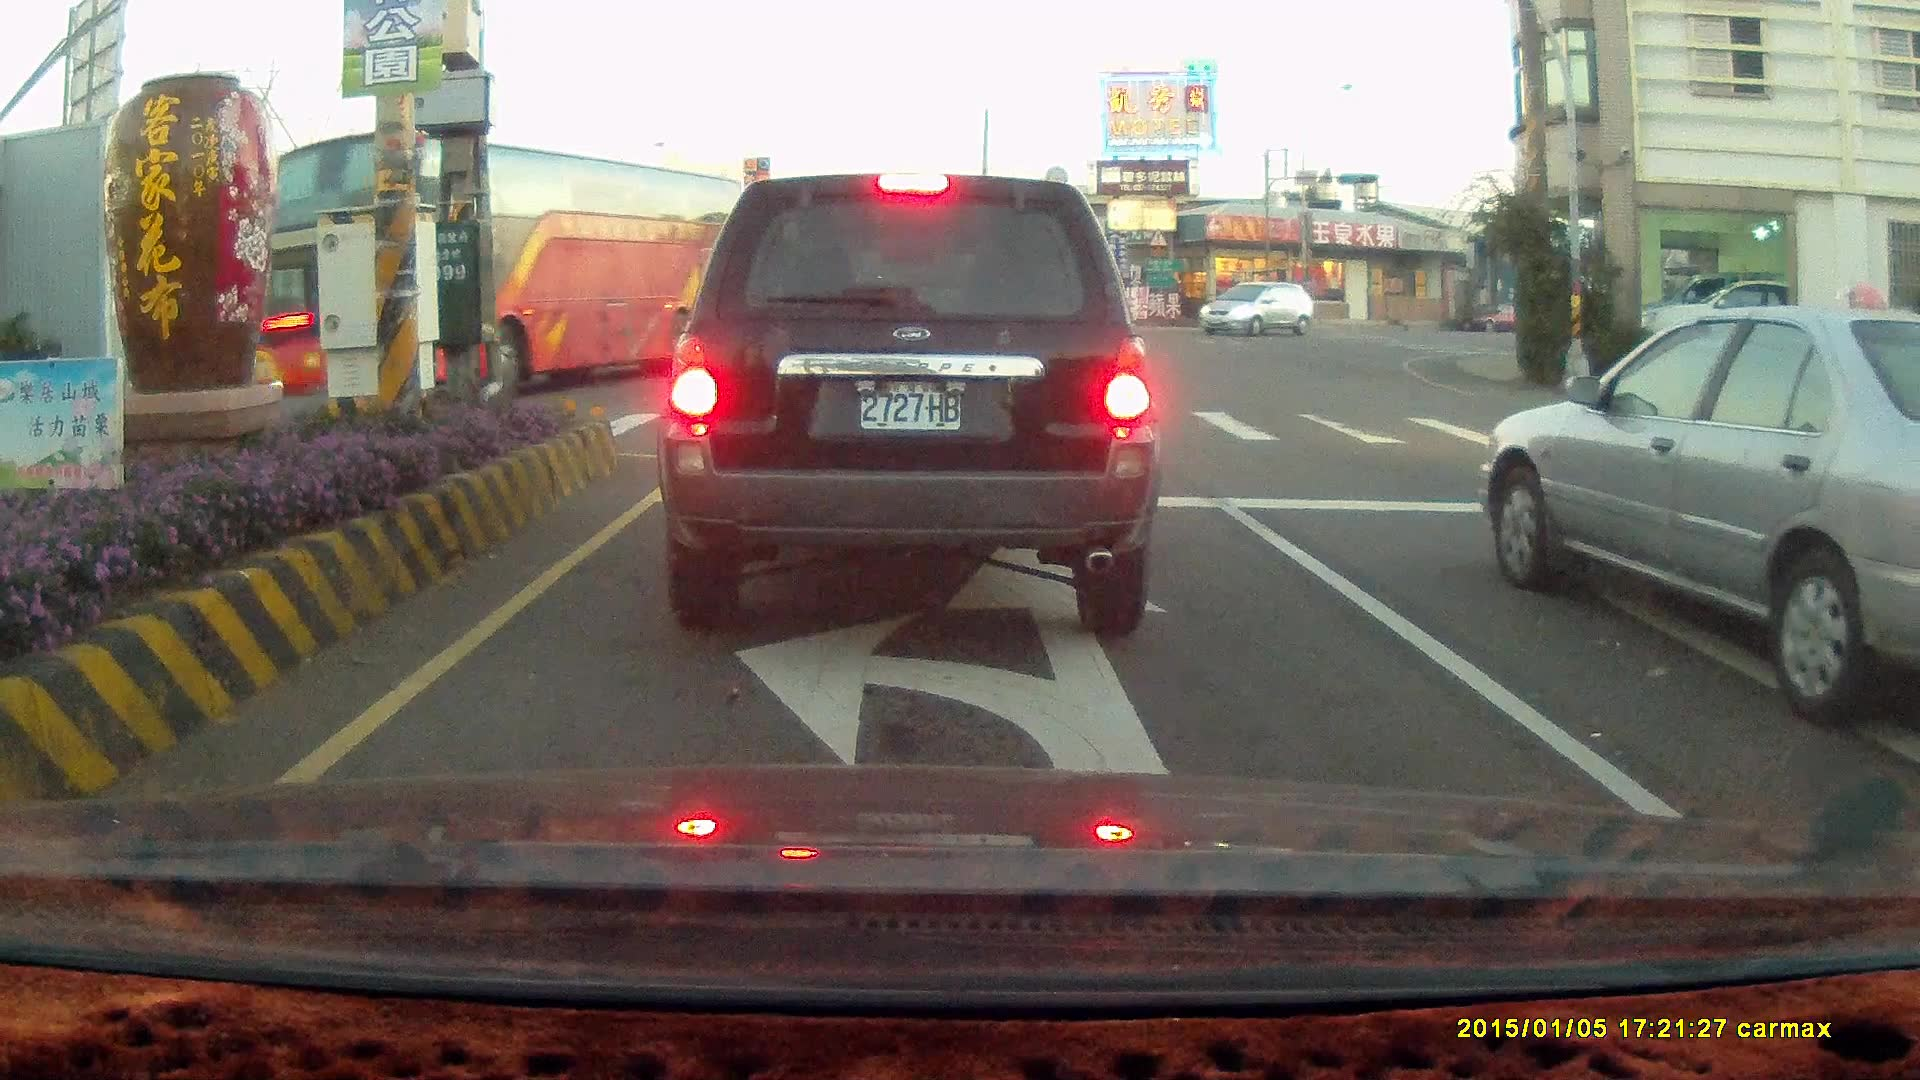vehicle: (651, 170, 1160, 640), (1472, 301, 1920, 731), (1480, 305, 1920, 702), (237, 129, 758, 429), (549, 255, 764, 345), (1633, 276, 1838, 363), (1642, 276, 1784, 356), (1896, 493, 1920, 836), (1203, 281, 1316, 340)
